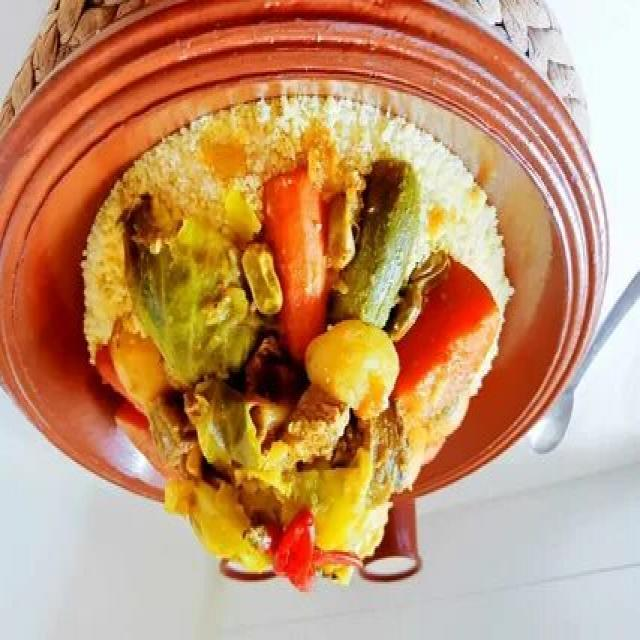Couscous: (84, 89, 518, 598)
